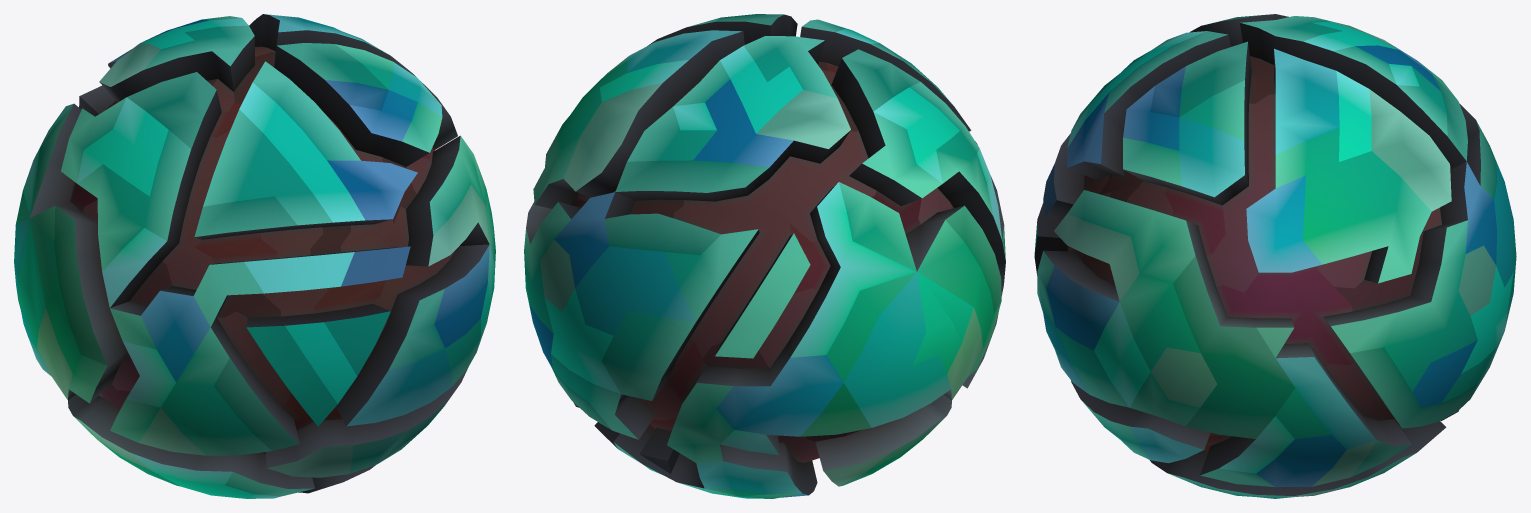
Rendered from Earn_00.fbx.
The picture shows the model from 3 angles, left to right: view 1: azimuth 30°, elevation 25°; view 2: azimuth 150°, elevation 25°; view 3: azimuth 270°, elevation 25°; orthographic projection.
Visible parts, largest first — view 1: Earn_00; view 2: Earn_00; view 3: Earn_00.
Part boxes in pixels (x1=…): Earn_00: x1=14, y1=14, x2=495, y2=498; Earn_00: x1=524, y1=14, x2=1005, y2=498; Earn_00: x1=1034, y1=14, x2=1516, y2=498.
Size of the model in its own units: 11203 by 11294 by 11203.
